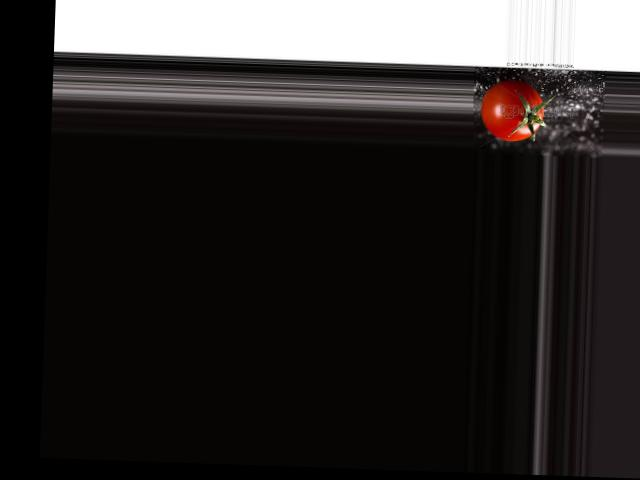tomato: (480, 79, 545, 142)
